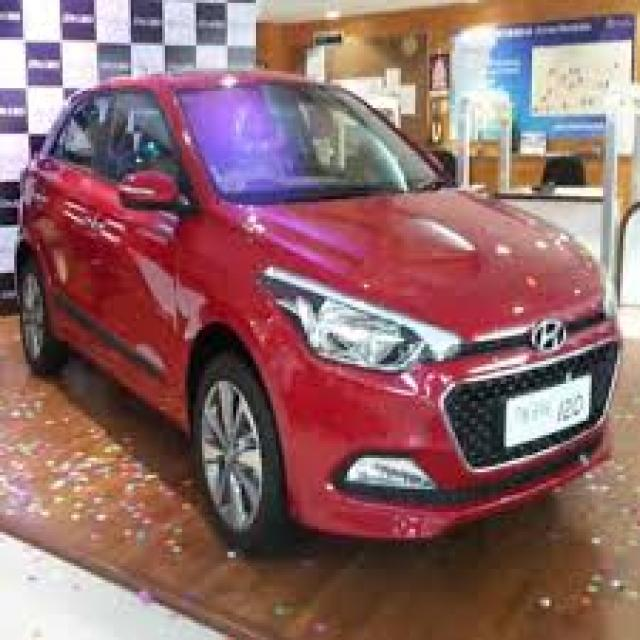car: (20, 69, 619, 517)
